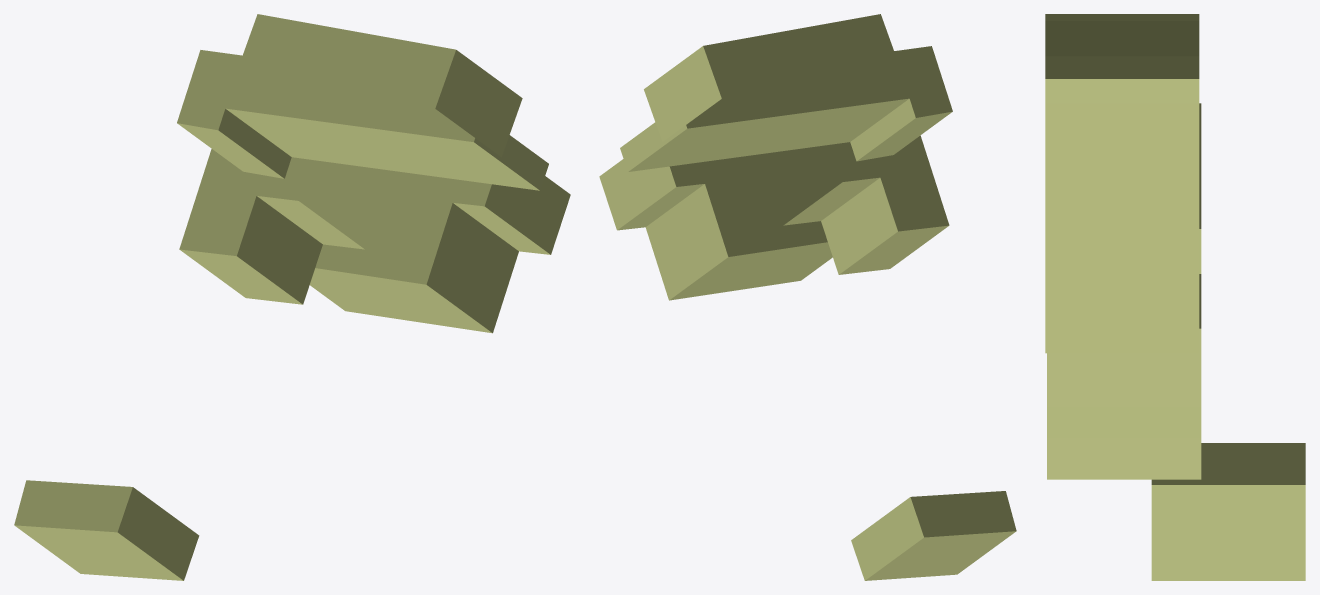
3 renders of one model, left to right at view 1: azimuth 30°, elevation 25°; view 2: azimuth 150°, elevation 25°; view 3: azimuth 270°, elevation 25°, orthographic. The views are drawn at different scales.
Visible parts, largest first — view 1: 0_0_1_3_1_2_0_2_2; view 2: 0_0_1_3_1_2_0_2_2; view 3: 0_0_1_3_1_2_0_2_2.
Part boxes in pixels (x1,y1,x2,y2): 0_0_1_3_1_2_0_2_2: (14, 14, 570, 580); 0_0_1_3_1_2_0_2_2: (599, 14, 1016, 580); 0_0_1_3_1_2_0_2_2: (1045, 14, 1305, 580).
Size of the model in its own units: 34.85 by 39.55 by 15.2.
